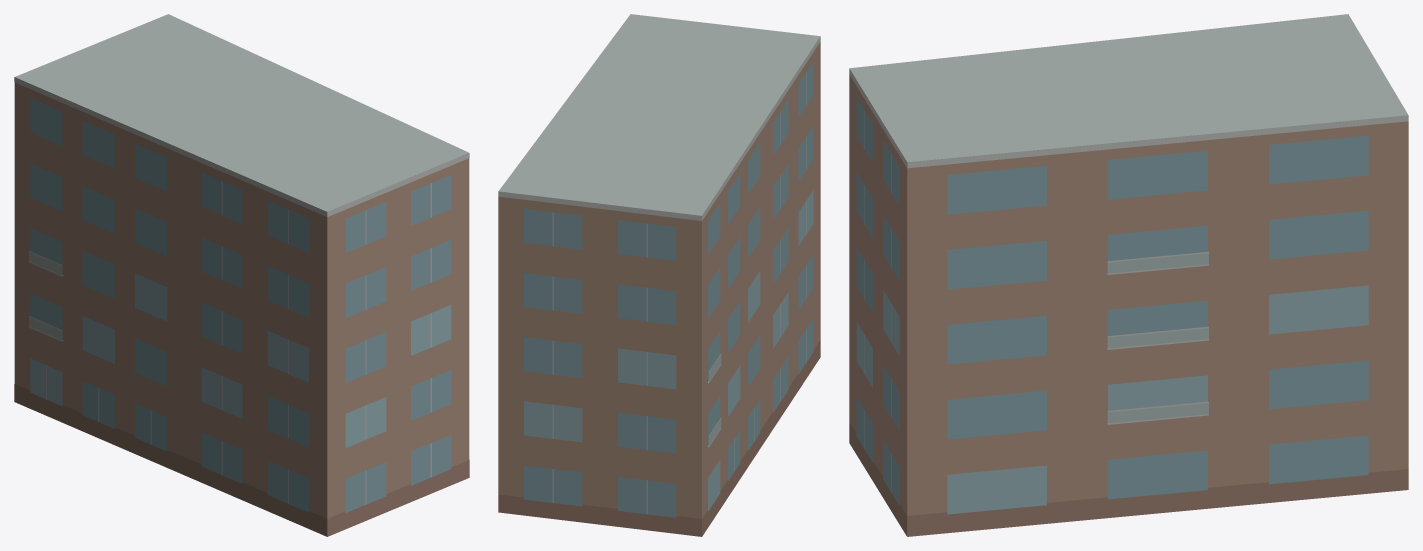
Rendered from survey-upis-32694998.glb.
3 views of the same model, side by side, from view 1: azimuth 30°, elevation 25°; view 2: azimuth 150°, elevation 25°; view 3: azimuth 270°, elevation 25° (orthographic). The views are drawn at different scales.
Parts seen in each view (by area): view 1: survey-upis-32694998.tmp; view 2: survey-upis-32694998.tmp; view 3: survey-upis-32694998.tmp.
Boxes of the visible parts, x1,y1,x2,y2 form: survey-upis-32694998.tmp: (14, 14, 469, 536); survey-upis-32694998.tmp: (498, 14, 820, 536); survey-upis-32694998.tmp: (849, 14, 1408, 536).
Size of the model in its own units: 12.87 by 15.15 by 20.51.
